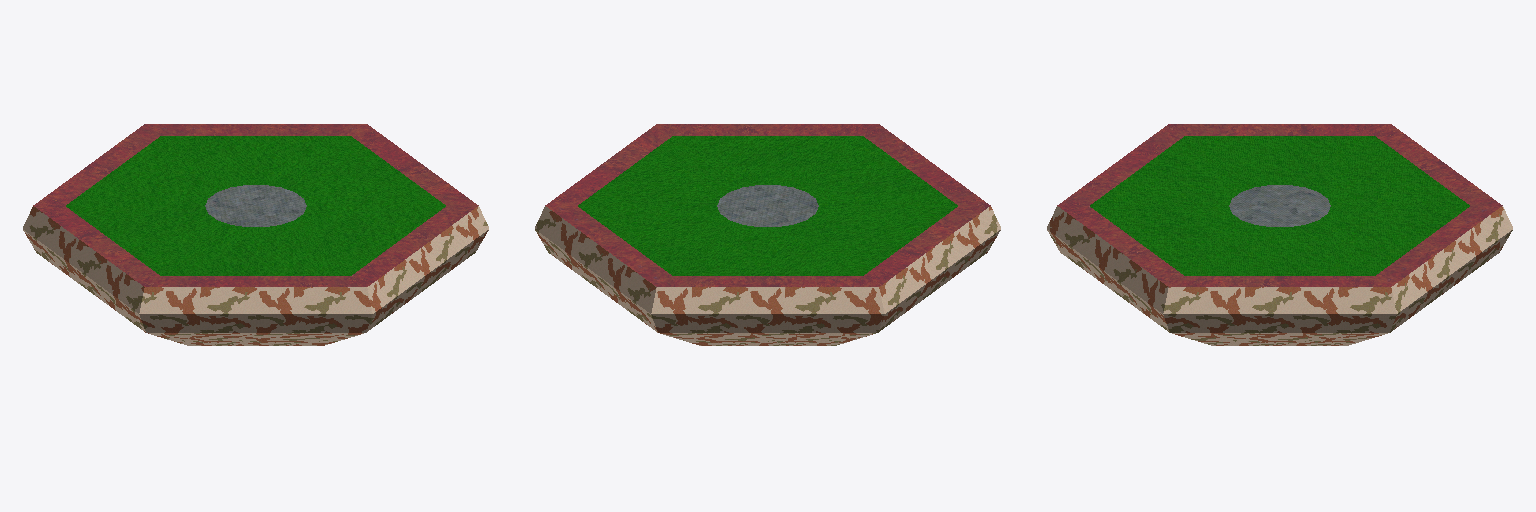
3 views of the same model, side by side, from view 1: azimuth 30°, elevation 25°; view 2: azimuth 150°, elevation 25°; view 3: azimuth 270°, elevation 25° (orthographic).
Visible parts, largest first — view 1: Circle.003_Circle.011, Circle.002_Circle.014; view 2: Circle.003_Circle.011, Circle.002_Circle.014; view 3: Circle.003_Circle.011, Circle.002_Circle.014.
Boxes of the visible parts, <box> form: Circle.003_Circle.011: <box>23,124,488,345</box>; Circle.002_Circle.014: <box>66,136,445,275</box>; Circle.003_Circle.011: <box>535,124,1000,345</box>; Circle.002_Circle.014: <box>578,136,957,275</box>; Circle.003_Circle.011: <box>1047,124,1512,345</box>; Circle.002_Circle.014: <box>1090,136,1469,275</box>.
Size of the model in its own units: 2234 by 613 by 2580.
Materials: 4 (4 with a texture image).